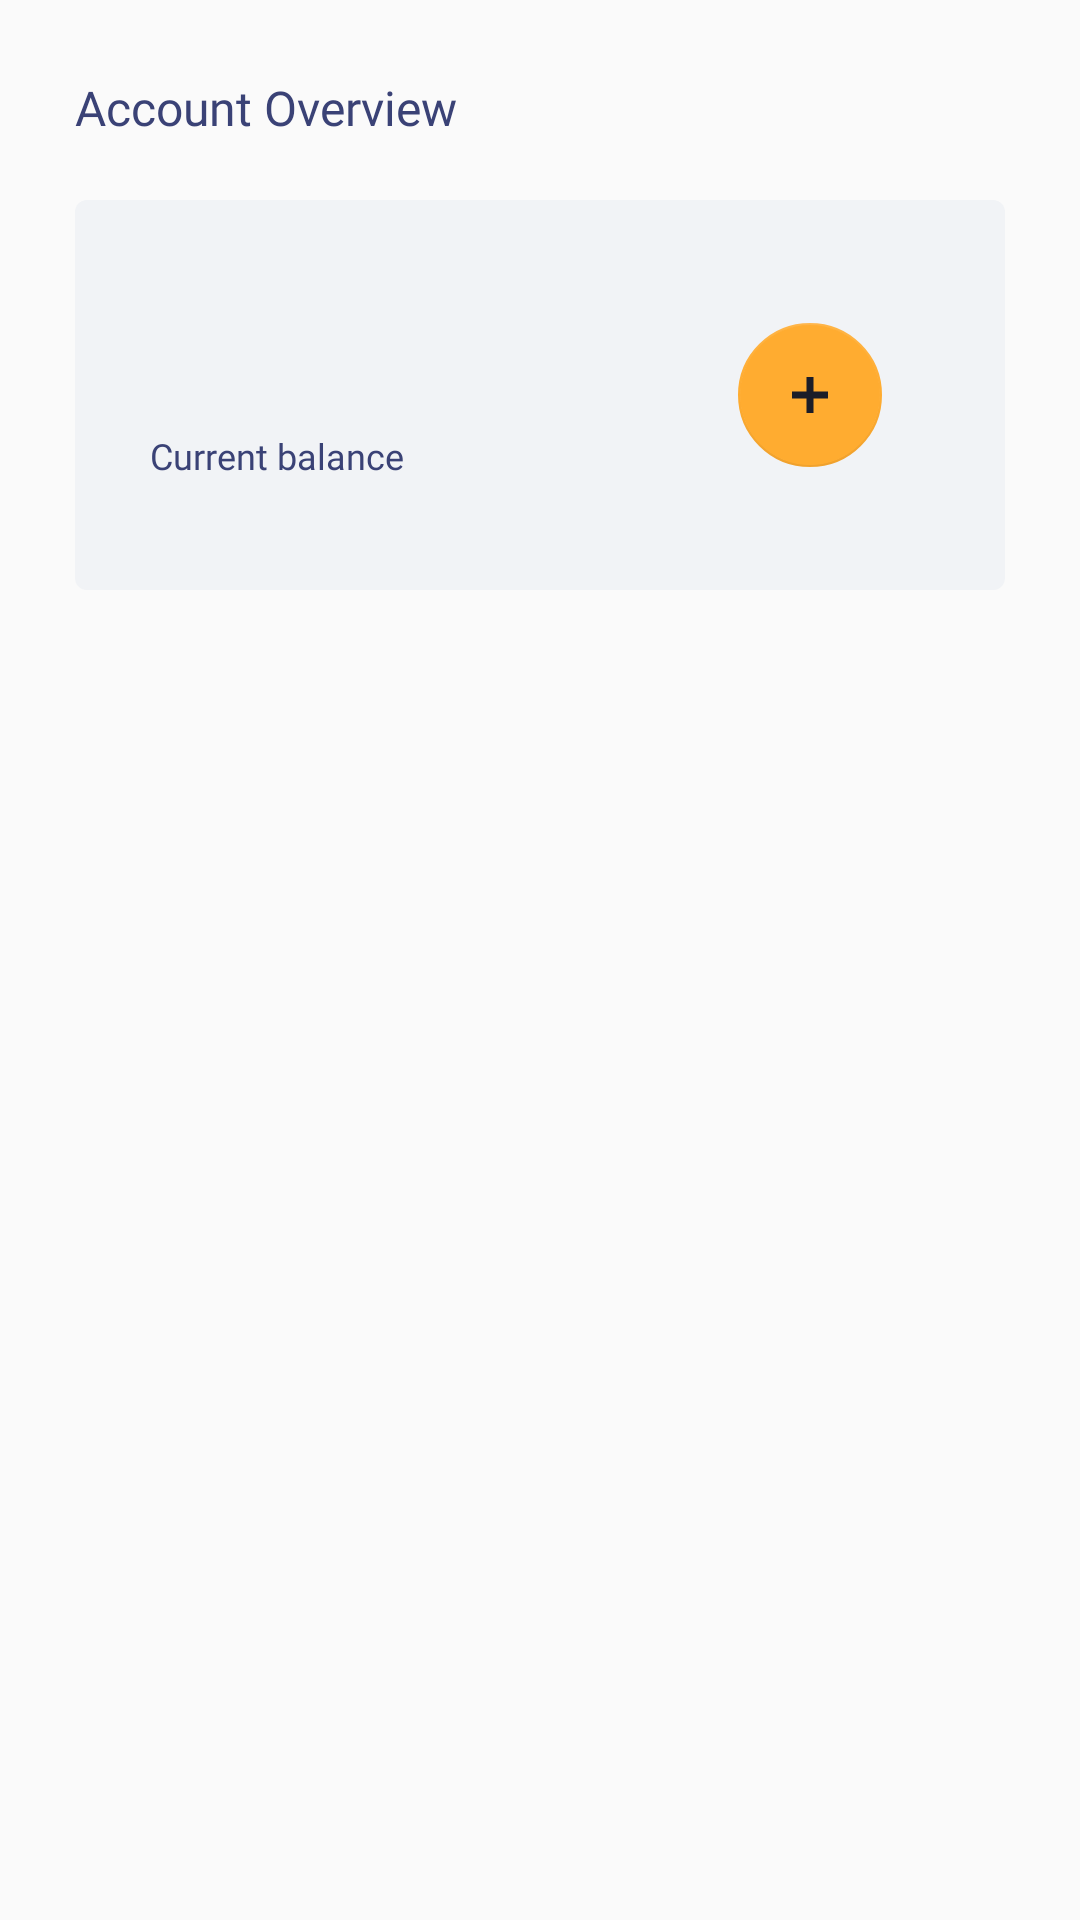

Named icons in this screenshot (1080x1920) and their centers, (x=x, y=y):
plus: (x=810, y=395)
